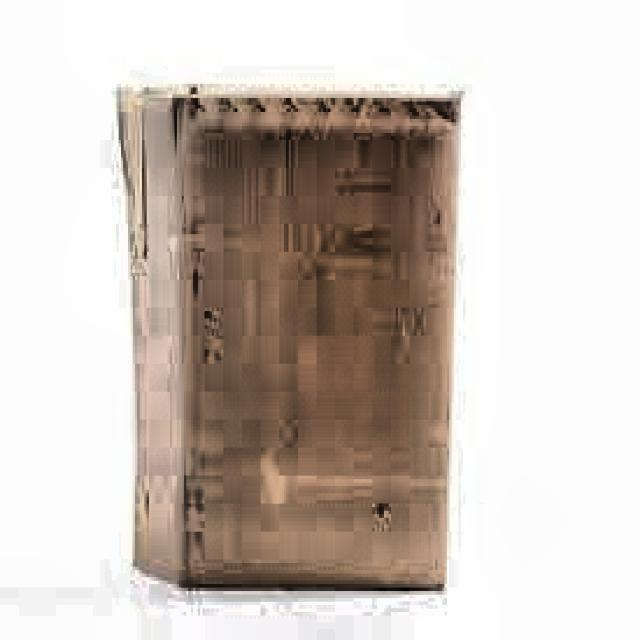cardboard: (116, 80, 463, 591)
